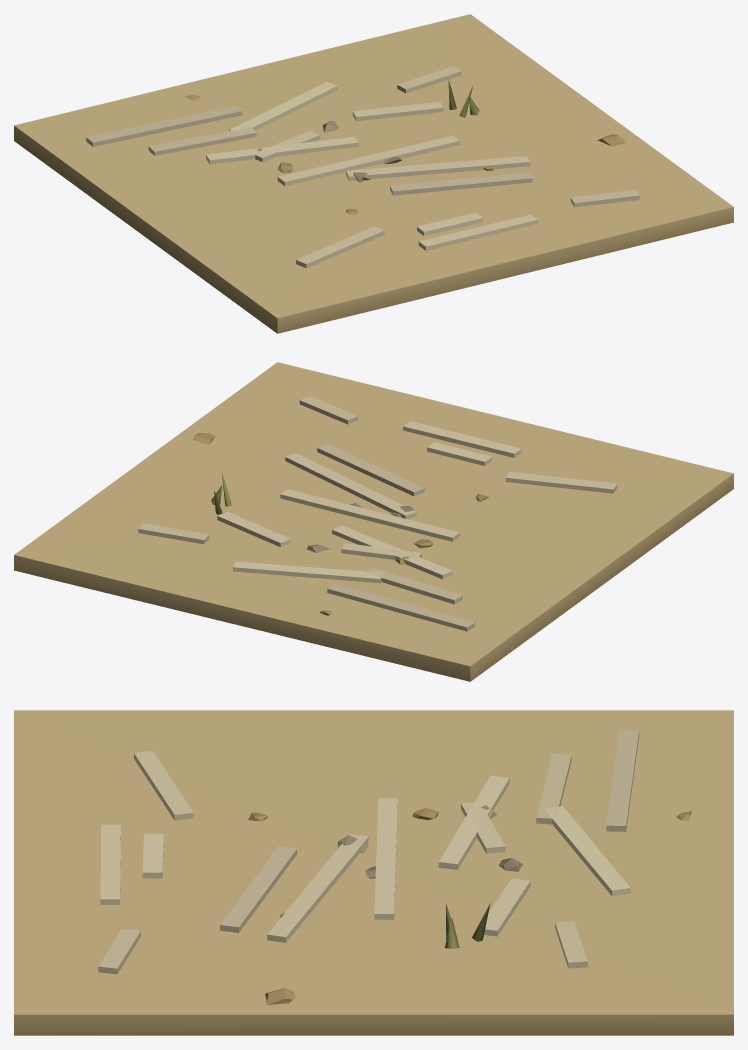
Rendered from sand-tile.glb.
3 renders of one model, top to bottom at view 1: azimuth 30°, elevation 25°; view 2: azimuth 150°, elevation 25°; view 3: azimuth 270°, elevation 25°, orthographic. The views are drawn at different scales.
Visible parts, largest first — view 1: sand_tile; view 2: sand_tile; view 3: sand_tile.
Part boxes in pixels (x1,y1,x2,y2): sand_tile: (14, 14, 733, 333); sand_tile: (14, 362, 733, 681); sand_tile: (14, 710, 733, 1035).
Size of the model in its own units: 4 by 0.3968 by 4.
